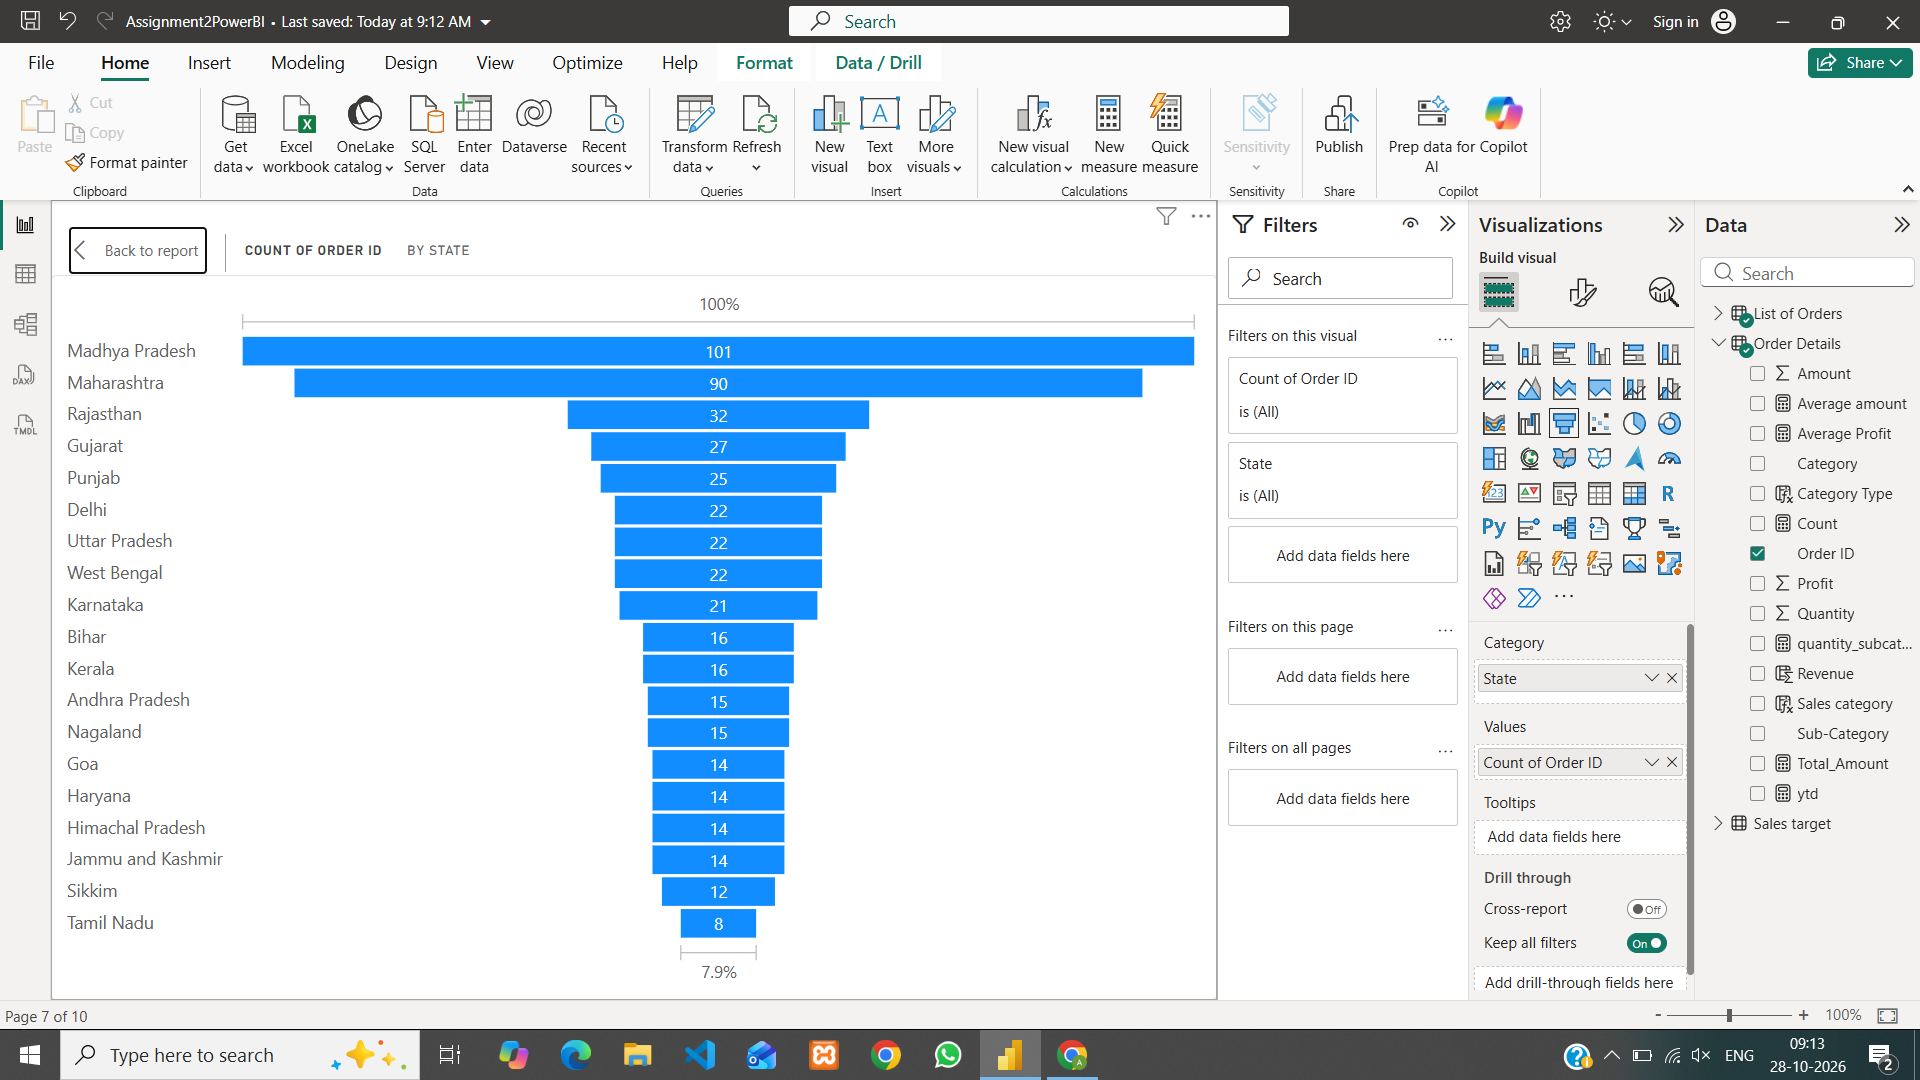

The dashboard page shown, as its layout file describes it:
{"tool":"powerbi","page":{"name":"Funnel Chart","canvas":[1920,1080],"ordinal":6},"visuals":[{"type":"funnel","fields":{"Category":["List of Orders.State"],"Y":["CountNonNull(Order Details.Order ID)"]},"box":[10.3,0,1840.1,994.2],"z":0}]}

Visuals, with their boxes on the page's 1920x1080 design canvas (x1, y1, x2, y2). These are canvas units, not pixel positions in the 1920x1080 screenshot, which may show the page scaled, cropped or inside an application window:
funnel - List of Orders.State x CountNonNull(Order Details.Order ID): {"left": 10, "top": 0, "right": 1850, "bottom": 994}
